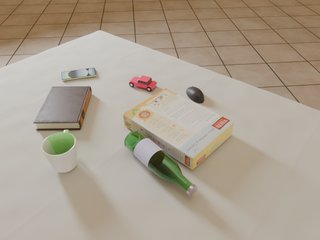book: (33, 86, 92, 130)
bottle: (124, 130, 197, 196)
box: (123, 88, 234, 170)
cup: (41, 129, 77, 173)
mouse: (186, 87, 204, 103)
phone: (61, 68, 96, 81)
toy_car: (129, 76, 157, 91)
